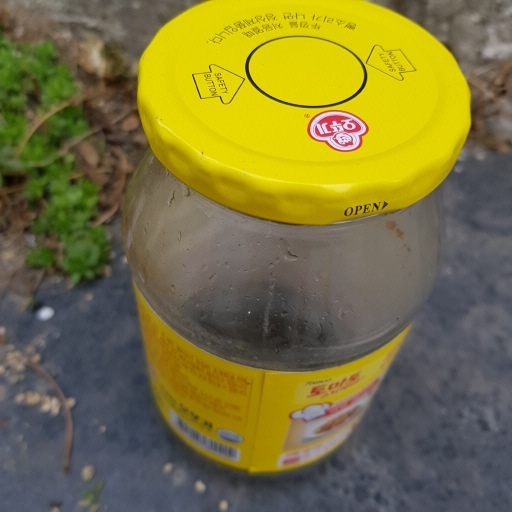Glass_5: (122, 1, 471, 471)
